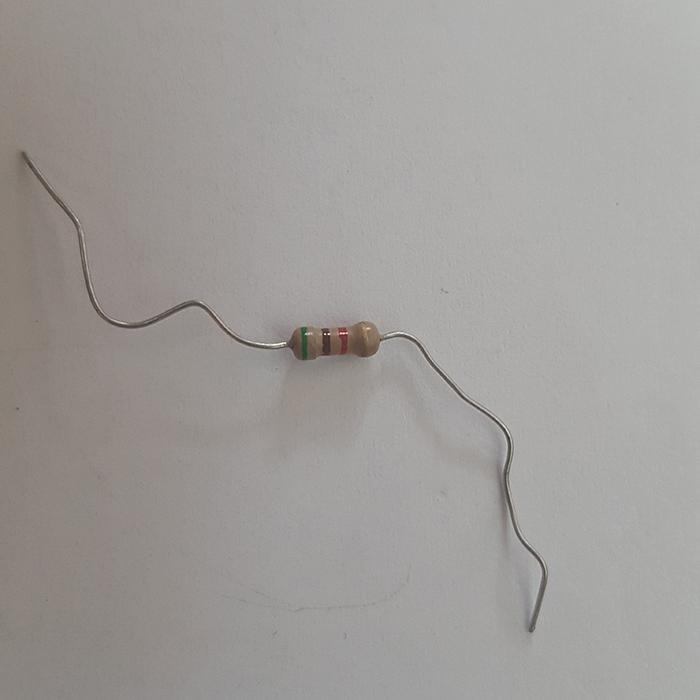resistor: (290, 321, 382, 360)
